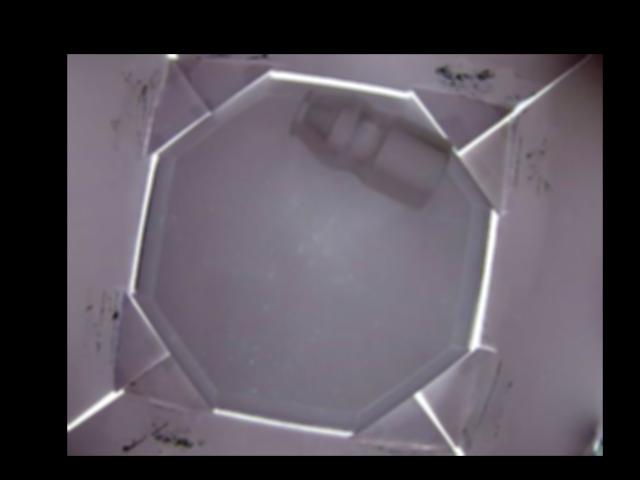Bottle: (288, 89, 452, 217)
